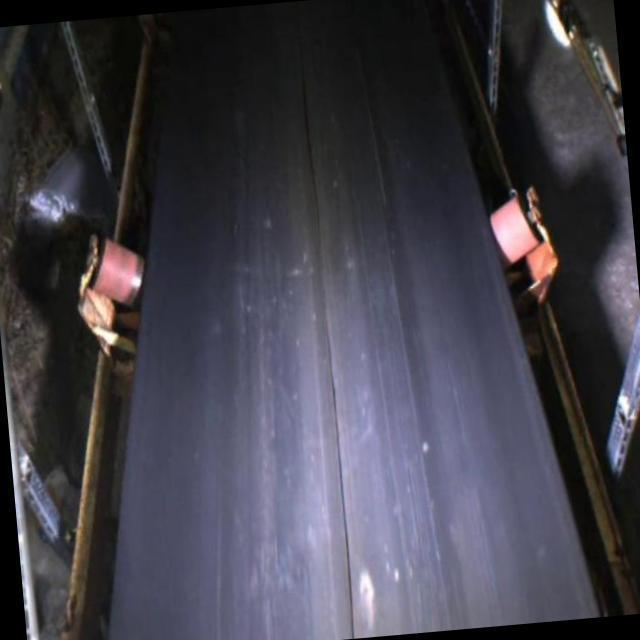Tear: (289, 55, 366, 639)
